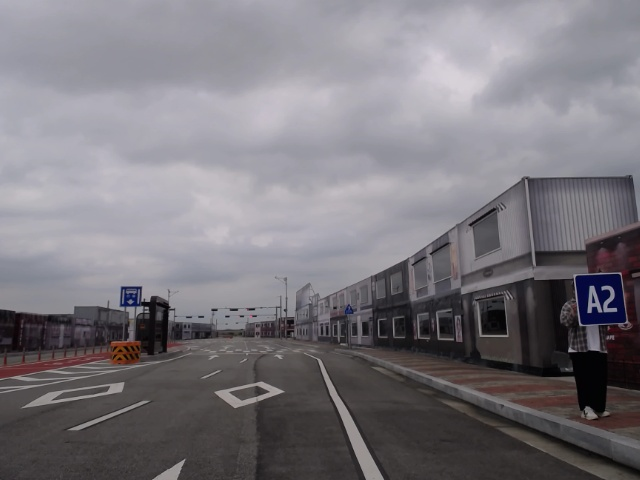delivery_a2: (574, 273, 627, 326)
